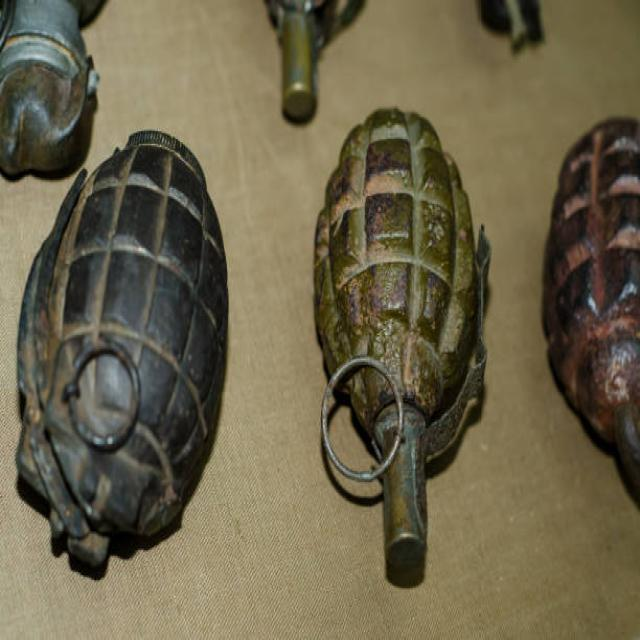grenade: (13, 123, 235, 580), (308, 96, 496, 587)
